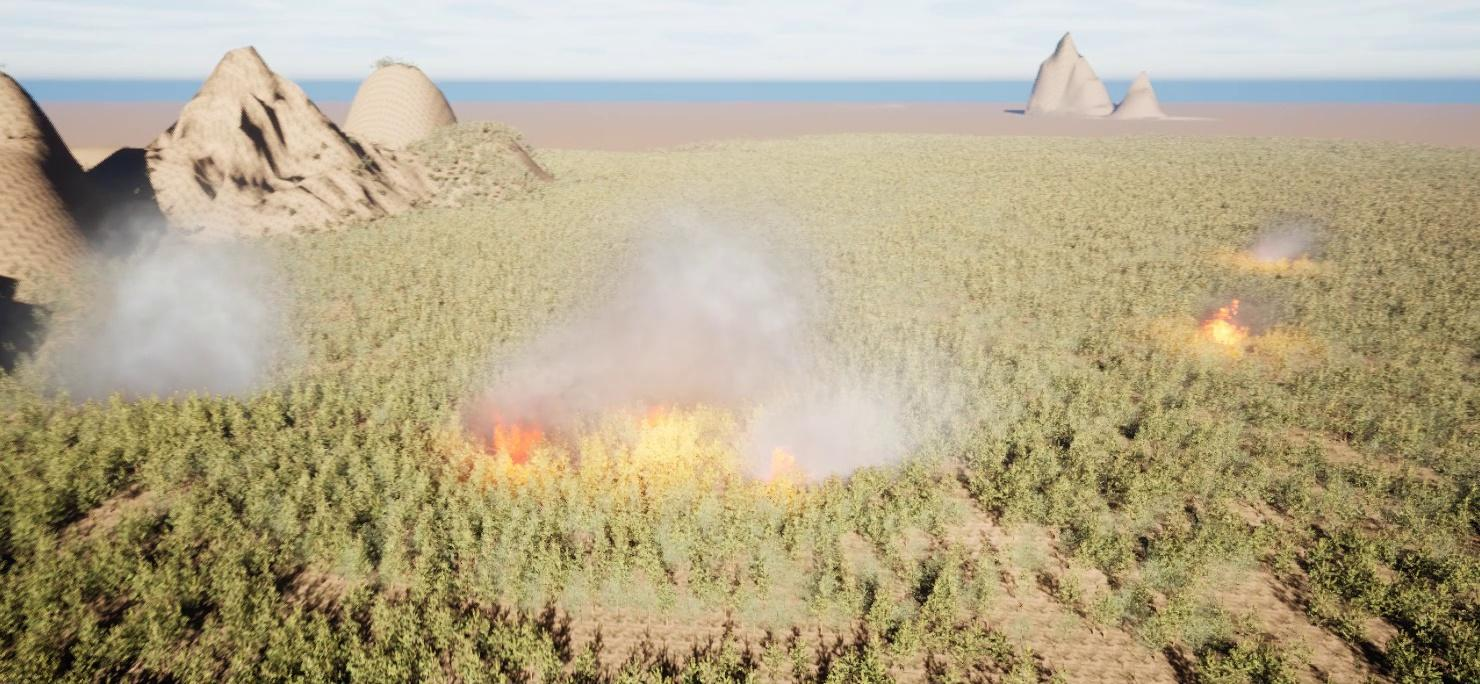fire: (612, 396, 731, 456), (475, 406, 554, 462), (756, 441, 825, 491), (1201, 299, 1247, 343)
smoke: (456, 162, 1007, 485), (27, 185, 324, 399), (1247, 217, 1330, 268), (1210, 285, 1280, 340)
